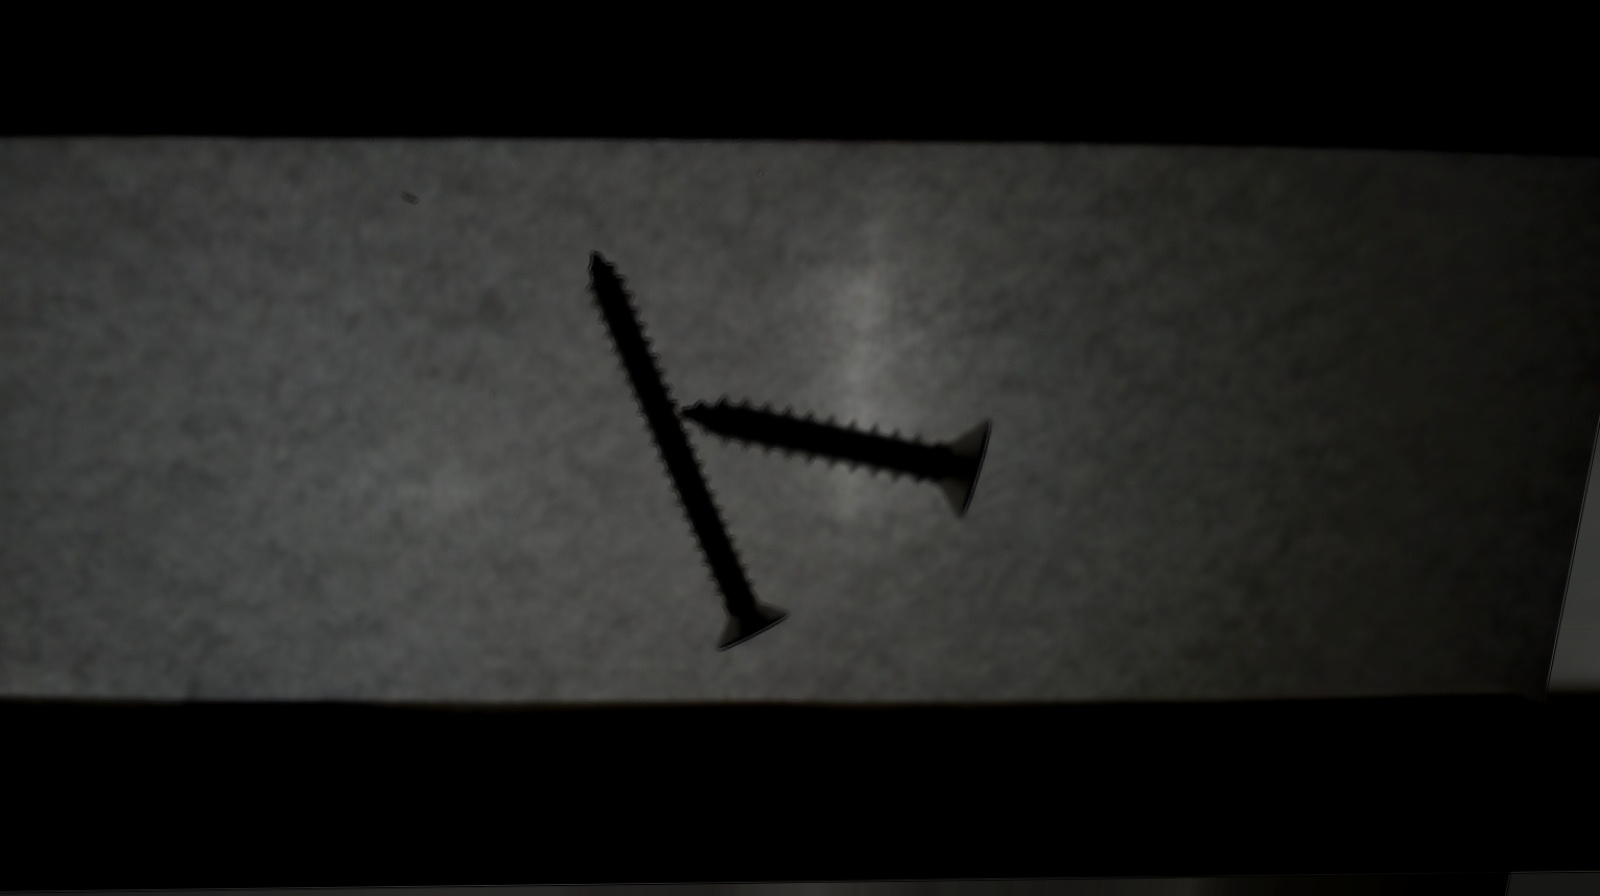S001: (656, 392, 1013, 527)
S002: (564, 240, 827, 660)
